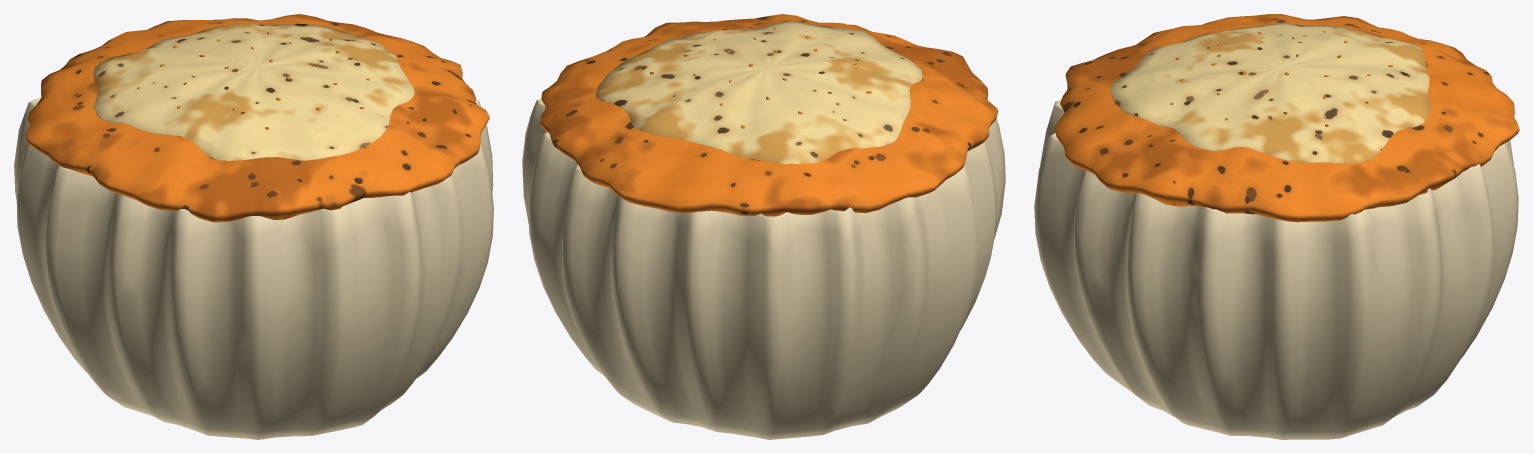
Rendered from kalili-cheese-mentai.glb.
The picture shows the model from 3 angles, left to right: view 1: azimuth 30°, elevation 25°; view 2: azimuth 150°, elevation 25°; view 3: azimuth 270°, elevation 25°; orthographic projection.
Visible parts, largest first — view 1: wrapper_shell, mentai_cap, cheese_surface; view 2: wrapper_shell, mentai_cap, cheese_surface; view 3: wrapper_shell, mentai_cap, cheese_surface.
Part boxes in pixels (bbox=[...]): wrapper_shell: bbox=[14, 71, 493, 439]; mentai_cap: bbox=[25, 14, 489, 222]; cheese_surface: bbox=[93, 23, 414, 161]; wrapper_shell: bbox=[522, 99, 1005, 439]; mentai_cap: bbox=[540, 14, 997, 216]; cheese_surface: bbox=[595, 20, 922, 164]; wrapper_shell: bbox=[1034, 68, 1518, 439]; mentai_cap: bbox=[1054, 14, 1519, 222]; cheese_surface: bbox=[1111, 23, 1431, 163].
Size of the model in its own units: 0.06 by 0.0418 by 0.0597.
1 material, 1 textured.
